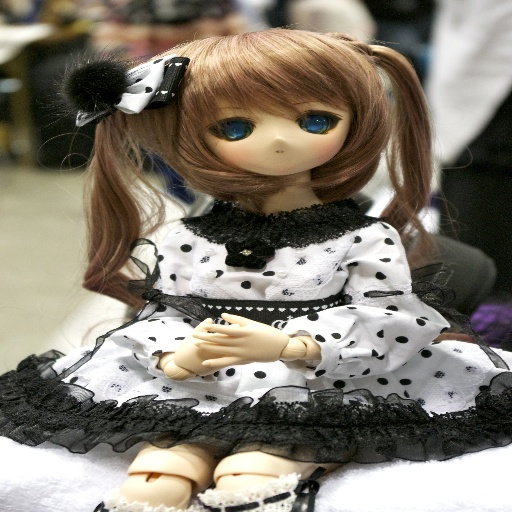hand: (181, 317, 316, 374)
